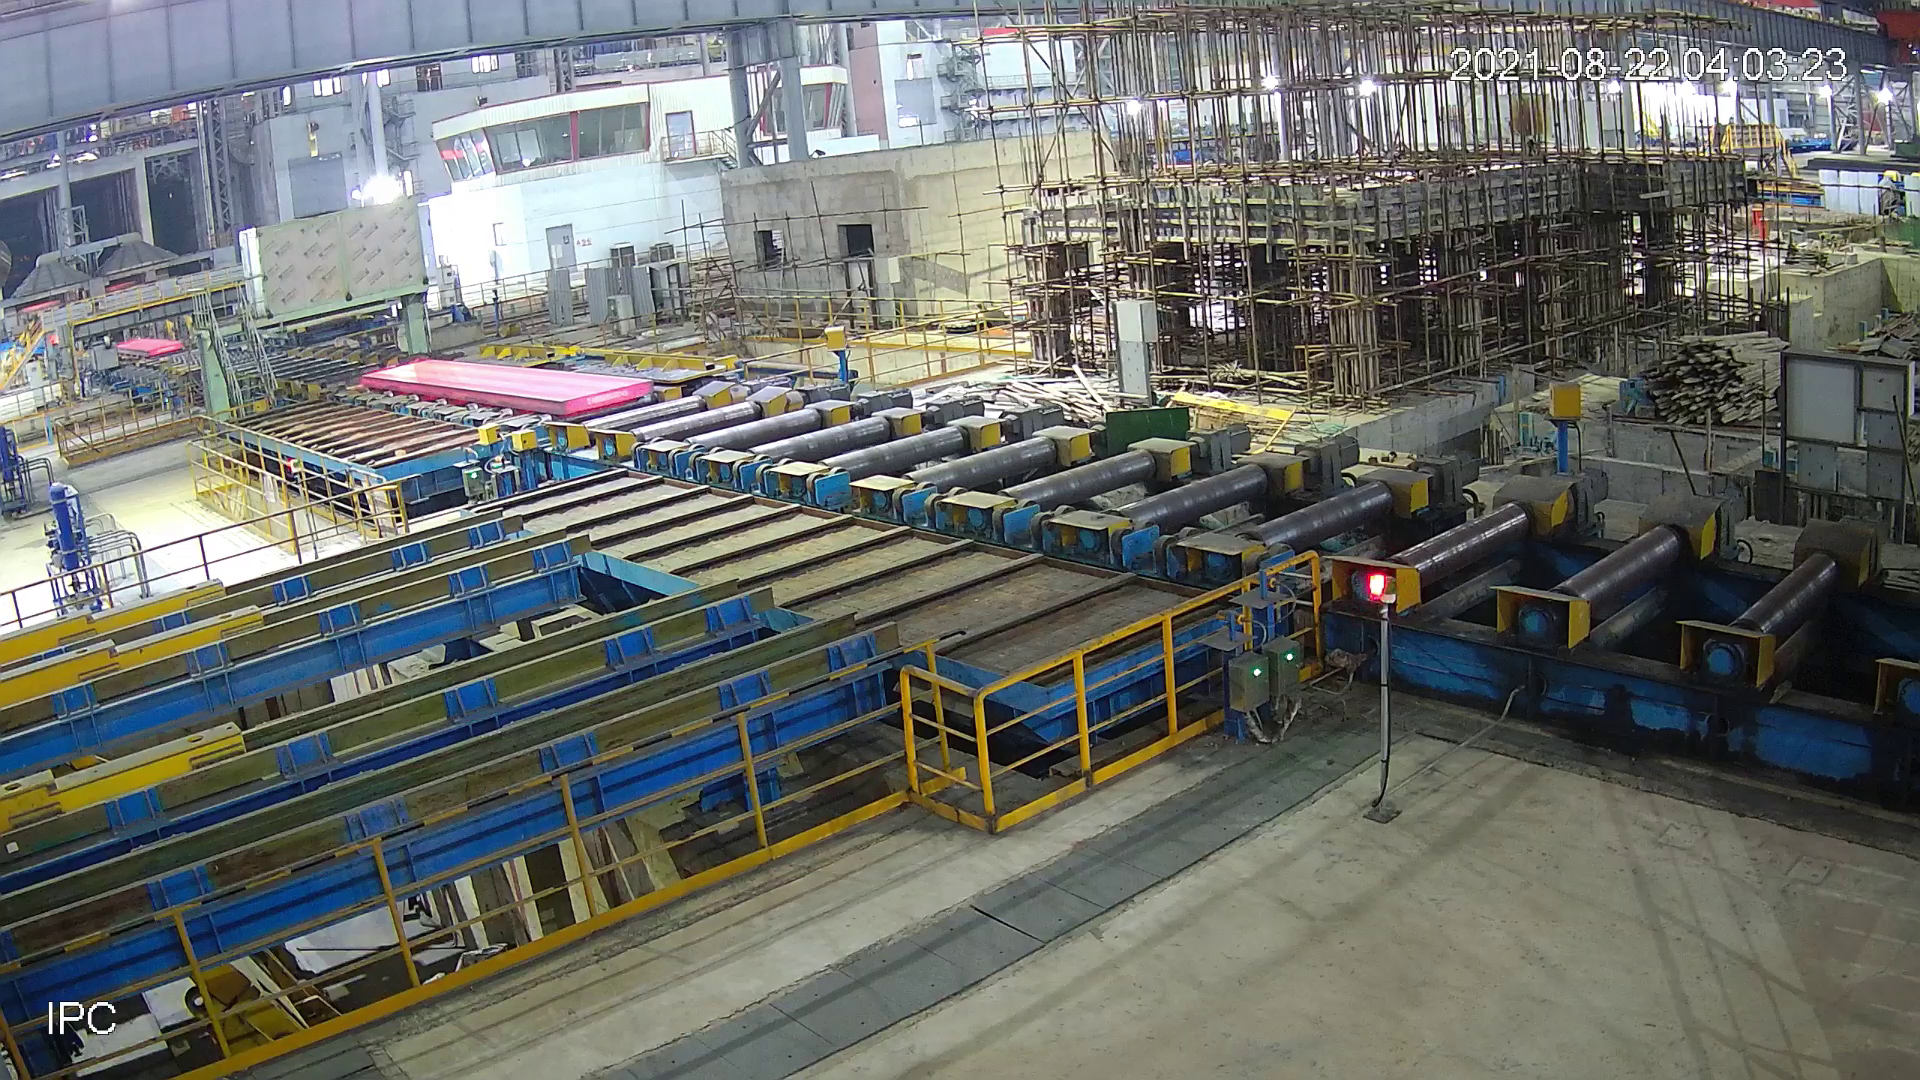slab: (355, 351, 658, 425), (115, 334, 187, 357)
